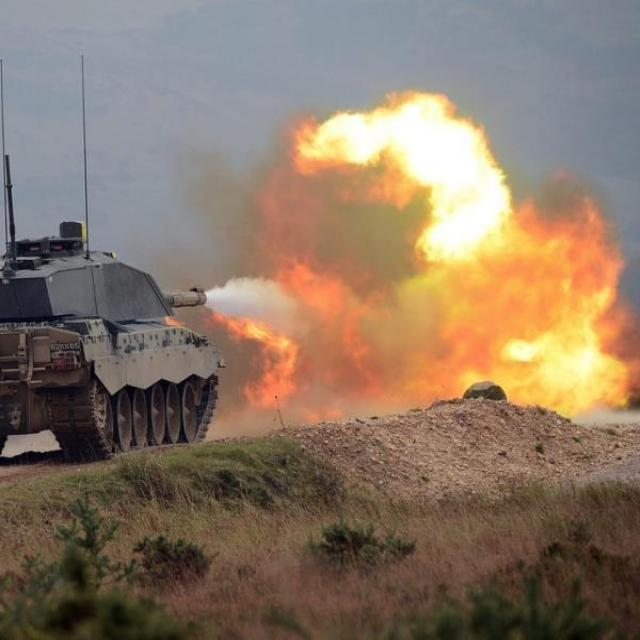Tanks: (4, 220, 228, 478)
